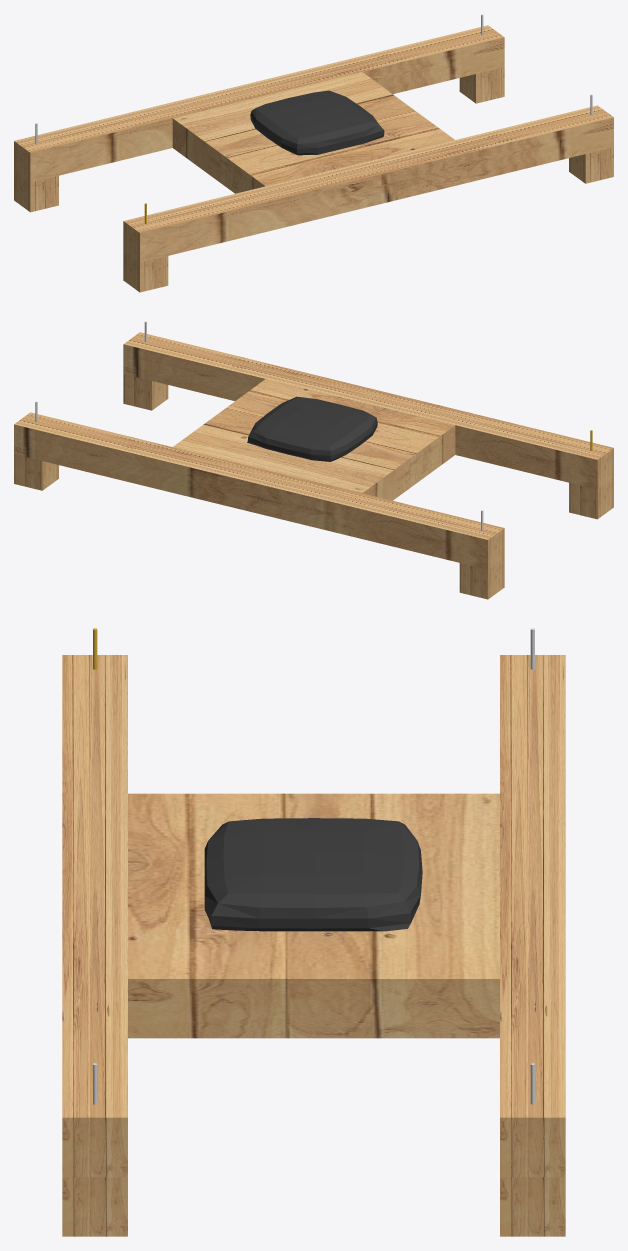
The model's file is droneNew.dae.
The picture shows the model from 3 angles, top to bottom: view 1: azimuth 30°, elevation 25°; view 2: azimuth 150°, elevation 25°; view 3: azimuth 270°, elevation 25°; orthographic projection. The views are drawn at different scales.
Visible parts, largest first — view 1: Cube.001, Cube; view 2: Cube.001, Cube; view 3: Cube.001, Cube.
Part boxes in pixels (x1,y1,x2,y2): Cube.001: (14, 25, 613, 292); Cube: (250, 90, 384, 155); Cube.001: (14, 332, 613, 599); Cube: (247, 396, 377, 461); Cube.001: (62, 655, 565, 1236); Cube: (204, 818, 422, 931).
Bounding box in the file's own units: 0.5 × 0.23 × 0.08.
Materials: 3 (1 with a texture image).
